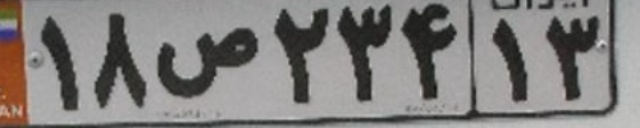1: (35, 15, 80, 110), (488, 17, 531, 102)
2: (272, 6, 328, 103)
3: (336, 4, 390, 102), (543, 13, 603, 101)
4: (401, 3, 458, 99)
8: (91, 12, 148, 108)
saat: (157, 26, 259, 99)
